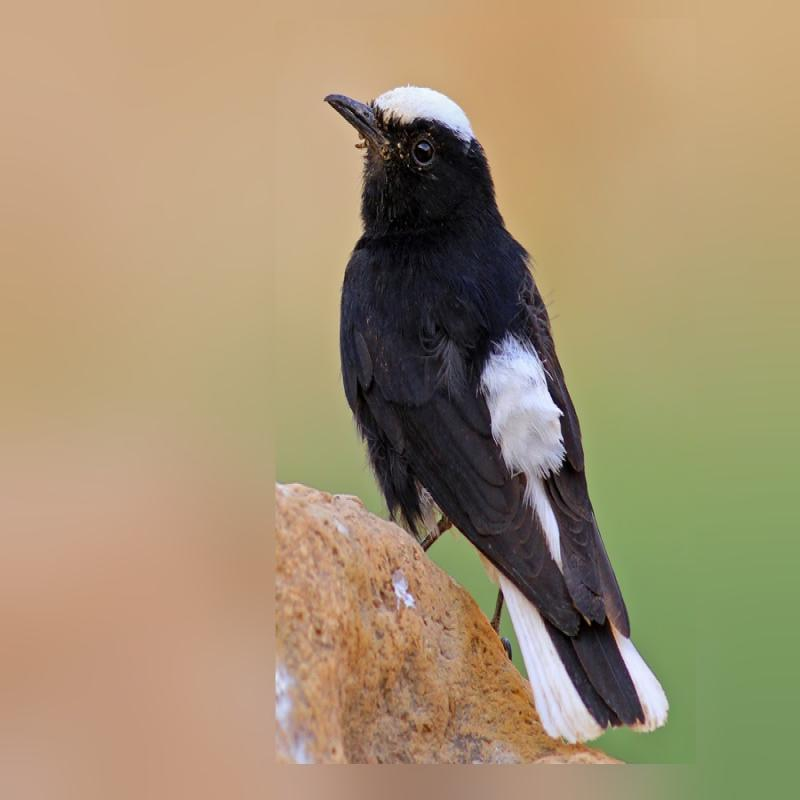white-crowned wheatear: (308, 70, 694, 746)
